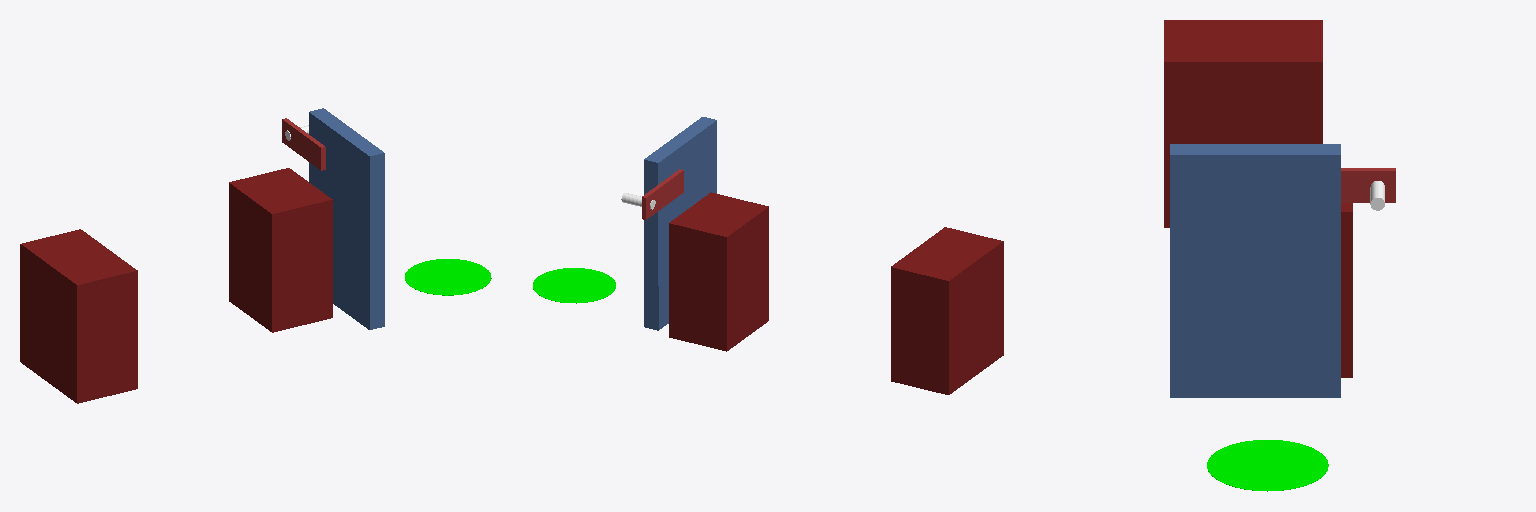
robot.urdf — room1:
<robot name="room1">
    <link name="base_link"/>

    <link name="room">
      <visual>
        <geometry>
          <mesh filename="[local-path]/rb_ws/robowflex/robowflex_dart/include/io/envs/room1/meshes/room.dae" scale=" 0.4 0.4 0.3"/>
        </geometry>
        <origin rpy="0 0 0" xyz="0 0 0"/>
      <material name="">
        <color rgba="0.94901960784 0.94901960784 0.94901960784 1"/>
      </material>
      </visual>

      <collision>
        <geometry>
          <mesh filename="[local-path]/rb_ws/robowflex/robowflex_dart/include/io/envs/room1/meshes/room.dae" scale=" 0.4 0.4 0.3"/>
        </geometry>
        <origin rpy="0 0 0" xyz="0 0 0"/>       
       </collision>
    </link>


        <link name="shelf">
      <visual>
        <geometry>
          <mesh filename="[local-path]/rb_ws/robowflex/robowflex_dart/include/io/envs/room1/meshes/shelf.dae" scale="0.042 0.05 0.04"/>
        </geometry>
        <origin rpy="0 0 0" xyz="0 0 0"/>
      
      <material name="">
        <color rgba="0.729411 0.549019 0.388235 1"/>
      </material>

      </visual>
      <collision>
        <geometry>
          <mesh filename="[local-path]/rb_ws/robowflex/robowflex_dart/include/io/envs/room1/meshes/shelf.dae" scale="0.042 0.05 0.04"/>
        </geometry>
        <origin rpy="0 0 0" xyz="0 0 0"/>       
       </collision>
    </link>


    <link name="desk">
      <visual>
        <geometry>
          <mesh filename="[local-path]/rb_ws/robowflex/robowflex_dart/include/io/envs/room1/meshes/desk2.dae" scale="0.01 0.01 0.020"/>
        </geometry>
        <origin rpy="0 0 0" xyz="0 0 0"/>
      
    <material name="">
        <color rgba="0.729411 0.549019 0.388235 1"/>
      </material>

      </visual>
      <collision>
        <geometry>
          <mesh filename="[local-path]/rb_ws/robowflex/robowflex_dart/include/io/envs/room1/meshes/desk2.dae" scale="0.01 0.01 0.020"/>
        </geometry>
        <origin rpy="0 0 0" xyz="0 0 0"/>       
       </collision>
    </link>



    <link name="sofa">
      <visual>
        <geometry>
          <mesh filename="[local-path]/rb_ws/robowflex/robowflex_dart/include/io/envs/room1/meshes/sofa.dae" scale="0.9 0.7 1"/>
        </geometry>
        <origin rpy="0 0 0" xyz="0 0 0"/>
      
      <material name="">
        <color rgba="0.70196 0.8 1 1"/>
      </material>

      </visual>
      <collision>
        <geometry>
          <mesh filename="[local-path]/rb_ws/robowflex/robowflex_dart/include/io/envs/room1/meshes/sofa.dae" scale="0.9 0.7 1"/>
        </geometry>
        <origin rpy="0 0 0" xyz="0 0 0"/>       
       </collision>
    </link>

    <link name="link_0_joint_0">
      <visual>
        <geometry>
          <box size="0.4 0.65 0.75"/>
        </geometry>
        <origin rpy="0 0 0" xyz="0 0 0"/>
          <material name="">
          <color rgba="0.541176 0.156862 0.156862 1.0"/>
      </material>
      </visual>
      <collision>
        <geometry>
          <box size="0.4 0.65 0.75"/>
        </geometry>
        <origin rpy="0 0 0" xyz="0 0 0"/>      
       </collision>
    </link>


    <link name="link_1_joint_0">
      <visual>
        <geometry>
          <box size="0.4 0.5 0.75"/>
        </geometry>
        <origin rpy="0 0 0" xyz="0 0 0"/>
       <material name="">
          <color rgba="0.541176 0.156862 0.156862 1.0"/>
      </material>
      </visual>
      <collision>
        <geometry>
          <box size="0.4 0.5 0.75"/>
        </geometry>
        <origin rpy="0 0 0" xyz="0 0 0"/>      
       </collision>
    </link>


     <link name="link_2_joint_0">
      <visual>
        <geometry>
          <box size="0.03 0.45 0.146"/>
        </geometry>
      <origin rpy="0 0 0" xyz="0 -0.15 0"/>
             <material name="">
          <color rgba="0.6901 0.2509 0.2509 1.0"/>
      </material>
      </visual>
      <collision>       
        <geometry>
          <box size="0.03 0.45 0.146"/>
        </geometry>
      <origin rpy="0 0 0" xyz="0 -0.15 0"/>
       </collision>
    </link>


       <link name="link_3_joint_0">
     <visual>
        <geometry>
          <box size="1.1 0.7 0.1"/>
        </geometry>
        <origin rpy="0 -1.57 0" xyz="0.0 0.35 0"/>
        <material name="">
          <color rgba="0.349019 0.470588 0.650980 1.0"/>
      </material>
      </visual>
      <collision>
        <geometry>
          <box size="1.1 0.7 0.1"/>
        </geometry>
        <origin rpy="0 -1.57 0" xyz="0.0 0.35 0"/>     
       </collision>
    </link>


     <link name="lock_part">
      <visual>
        <geometry>
          <cylinder radius="0.03" length="0.2"/>
        </geometry>
             <material name="">
          <color rgba="1 1 1 1.0"/>
      </material>
      </visual>
    </link>


<link name="cube1_y_axis"/>
<link name="cube2_y_axis"/>


  <joint name="link_0_joint_0" type="prismatic">
      <origin rpy="0 0 0" xyz="-0.5 -0.1 0.375"/>
      <parent link="base_link"/>
      <child link="cube1_y_axis"/>
      <axis xyz="0 1 0"/>
      <limit lower="-0.60" upper="1.10" effort="0.05" velocity="1.57"/>
  </joint>


  <joint name="link_0_joint_1" type="prismatic">
      <origin rpy="0 0 0" xyz="0 0 0"/>
      <parent link="cube1_y_axis"/>
      <child link="link_0_joint_0"/>
      <axis xyz="1 0 0"/>
      <limit lower="-1.0" upper="1.65" effort="0.05" velocity="1.57"/>
  </joint>



  <joint name="link_1_joint_0" type="prismatic">
      <origin rpy="0 0 0" xyz="0.95 0.1 0.375"/>
      <parent link="base_link"/>
      <child link="cube2_y_axis"/>
      <axis xyz="0 1 0"/>
      <limit lower="-1.15" upper="0.95" effort="0.05" velocity="1.57"/>
  </joint>


  <joint name="link_1_joint_1" type="prismatic">
      <origin rpy="0 0 0" xyz="0 0 0"/>
      <parent link="cube2_y_axis"/>
      <child link="link_1_joint_0"/>
      <axis xyz="1 0 0"/>
      <limit lower="-2.10" upper="0.15" effort="0.05" velocity="1.57"/>
  </joint>


 <joint name="link_2_joint_0" type="revolute">
      <origin rpy="0 0 0" xyz="1.22 0.45 0.90"/>
      <parent link="base_link"/>
      <child link="link_2_joint_0"/>
      <axis xyz="1 0 0"/>
      <limit lower="0" upper="1.57" effort="0.05" velocity="1.57"/>
  </joint>


   <joint name="link_3_joint_0" type="revolute">
      <origin rpy="0 0 0" xyz="1.30 -0.4 0.55"/>
      <parent link="base_link"/>
      <child link="link_3_joint_0"/>
      <axis xyz="0 0 1"/>
      <limit lower="0.0" upper="1.57" effort="0.05" velocity="1.57"/>
  </joint>


  <joint name="desk_joint" type="fixed">
      <origin rpy="0 0 1.57" xyz="0.25 0.6 0.0"/>
      <parent link="base_link"/>
      <child link="desk"/>
      <axis xyz="0 0 1"/>
  </joint>


<joint name="room_j" type="fixed">
    <origin rpy="0 0 -1.57" xyz="0 0 0.0"/>
    <parent link="base_link"/>
    <child link="room"/>
    <axis xyz="0 1 0"/>
  </joint>

<joint name="shelf_j" type="fixed">
    <origin rpy="0 0 -1.57" xyz="1.1 0.9 0.0"/>
    <parent link="base_link"/>
    <child link="shelf"/>
    <axis xyz="0 1 0"/>
  </joint>


  <joint name="lock_part_j" type="fixed">
    <origin rpy="0 1.57 0" xyz="1.3 0.45 0.9"/>
      <parent link="base_link"/>
      <child link="lock_part"/>
      <axis xyz="0.0 0.0 1"/>
  </joint>

<joint name="sofa_joint" type="fixed">
        <origin rpy="0 0 -3.14" xyz="-0.3 -1.0 0.0"/>
        <parent link="base_link"/>
        <child link="sofa"/>
        <axis xyz="0 0 1"/>
        <limit lower="-1.57" upper="1.57" effort="0.05" velocity="1.57"/>
    </joint>

 <link name="goal">
    <visual>
         <origin xyz="0 0 0" rpy="0 0 0"/>
        <geometry>
          <cylinder radius="0.25" length="0.001"/>
        </geometry>
        <material name="">
          <color rgba="0 1 0 1.0"/>
        </material>
      </visual>
</link>

<joint name="goal" type="fixed">
  <origin rpy="0 0 0" xyz="2.0 0.0 0.0"/>
  <parent link="base_link"/>
    <child link="goal"/>
</joint>


</robot>

--- What the picture shows (computed from the rendered views, not written in the file) ---
3 views of the same robot in one strip: view 1: azimuth 30°, elevation 25°; view 2: azimuth 150°, elevation 25°; view 3: azimuth 270°, elevation 25° (orthographic).
Robot: room1 — 13 links, 12 joints (2 revolute, 4 prismatic, 6 fixed); root link base_link; default pose: every joint at zero.
Links seen in each view (by area): view 1: link_0_joint_0, link_1_joint_0, link_3_joint_0, goal, link_2_joint_0; view 2: link_0_joint_0, link_1_joint_0, link_3_joint_0, goal, link_2_joint_0; view 3: link_3_joint_0, link_0_joint_0, goal, link_1_joint_0, link_2_joint_0.
Boxes of the visible links, bbox=[...] form: link_0_joint_0: bbox=[20, 229, 137, 403]; link_1_joint_0: bbox=[229, 168, 332, 332]; link_3_joint_0: bbox=[309, 108, 384, 329]; goal: bbox=[405, 259, 491, 295]; link_2_joint_0: bbox=[282, 118, 325, 170]; link_0_joint_0: bbox=[891, 227, 1003, 394]; link_1_joint_0: bbox=[669, 192, 768, 351]; link_3_joint_0: bbox=[644, 117, 716, 330]; goal: bbox=[533, 268, 615, 303]; link_2_joint_0: bbox=[642, 169, 683, 219]; link_3_joint_0: bbox=[1170, 144, 1340, 397]; link_0_joint_0: bbox=[1164, 20, 1322, 227]; goal: bbox=[1207, 440, 1328, 491]; link_1_joint_0: bbox=[1341, 203, 1352, 377]; link_2_joint_0: bbox=[1341, 168, 1395, 202].
Bounding box of the posed robot: 2.95 × 0.95 × 1.1 m (x, y, z).
Geometry: only primitive shapes (box / cylinder / sphere) drawn; not drawn: 4 mesh visuals (reference in a form the renderer does not follow).